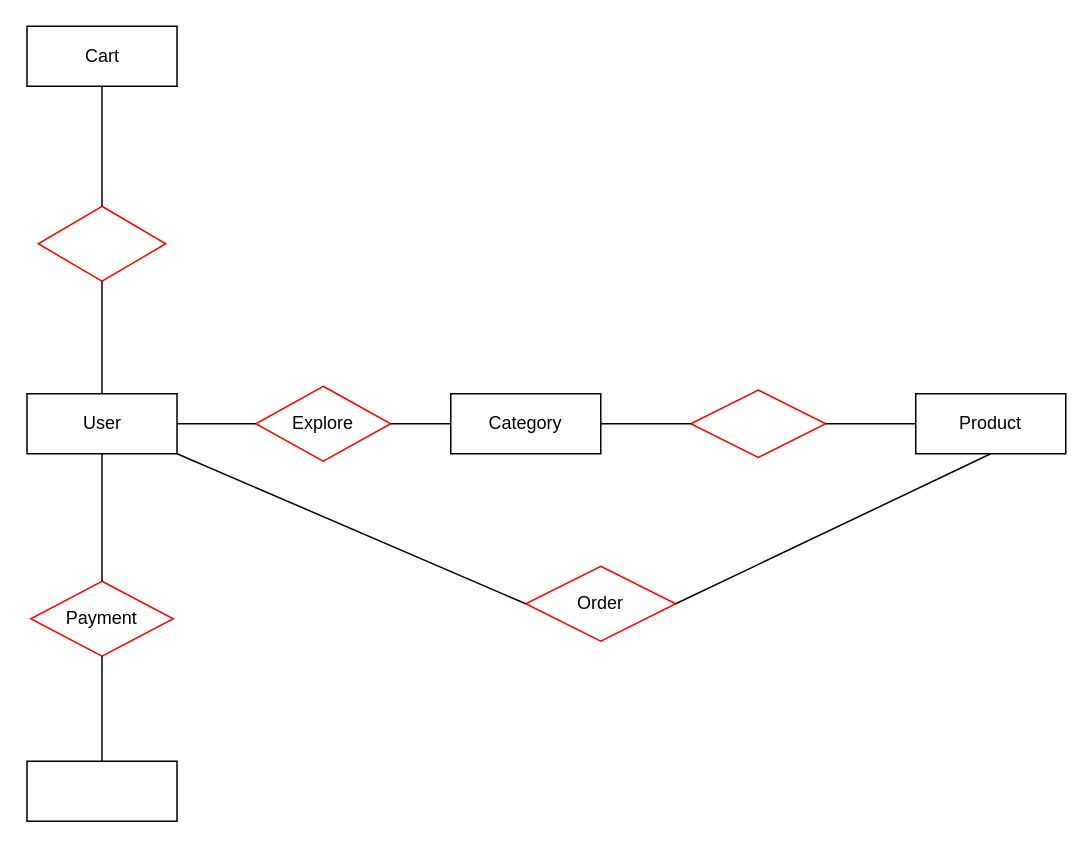
Some shapes in this 1092 by 848 pixel diagram are drawn without their labels. The shapes that lost their labels are listed below. From the top down, each one's centre as x and y in pixels, then its label:
point (101, 243): Store
point (757, 423): Consists
point (101, 790): Payment Details
